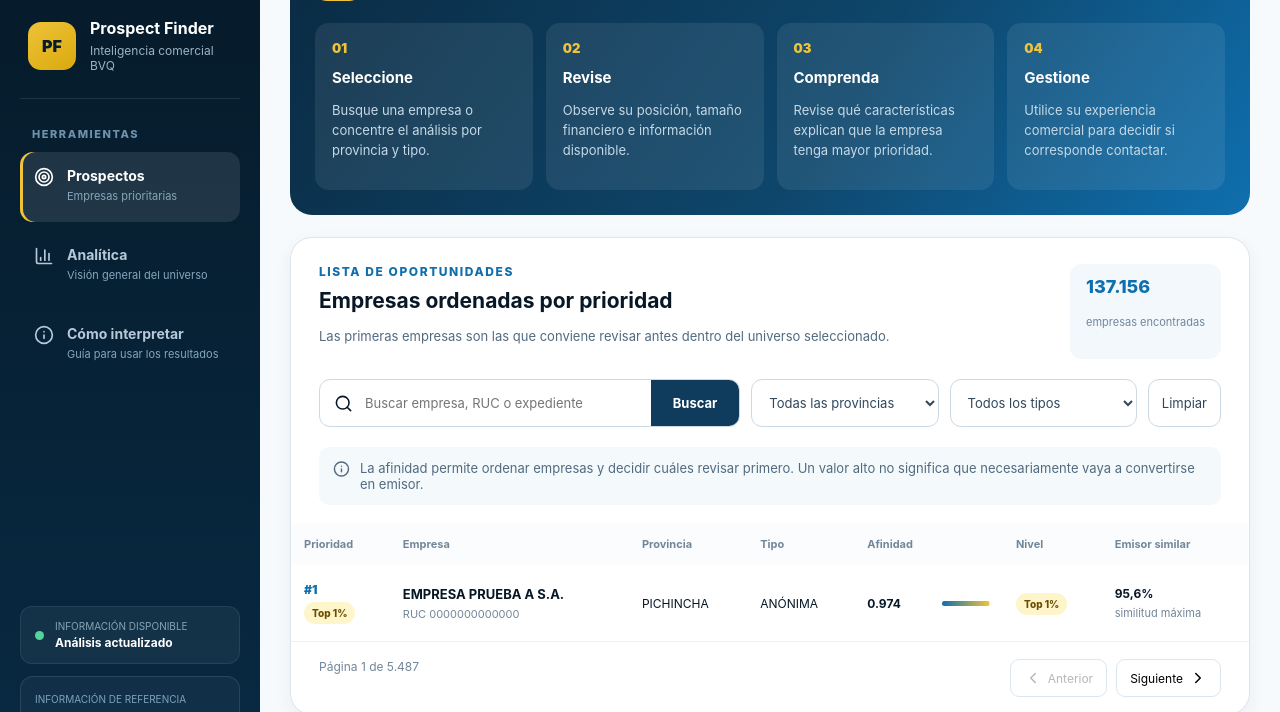
Test: Prospect Finder BVQ › consulta y presenta factores SHAP positivos y negativos
(page scrolled)
Click the text "EMPRESA PRUEBA A S.A.": (484, 594) [403,586,564,602]
(page scrolled)
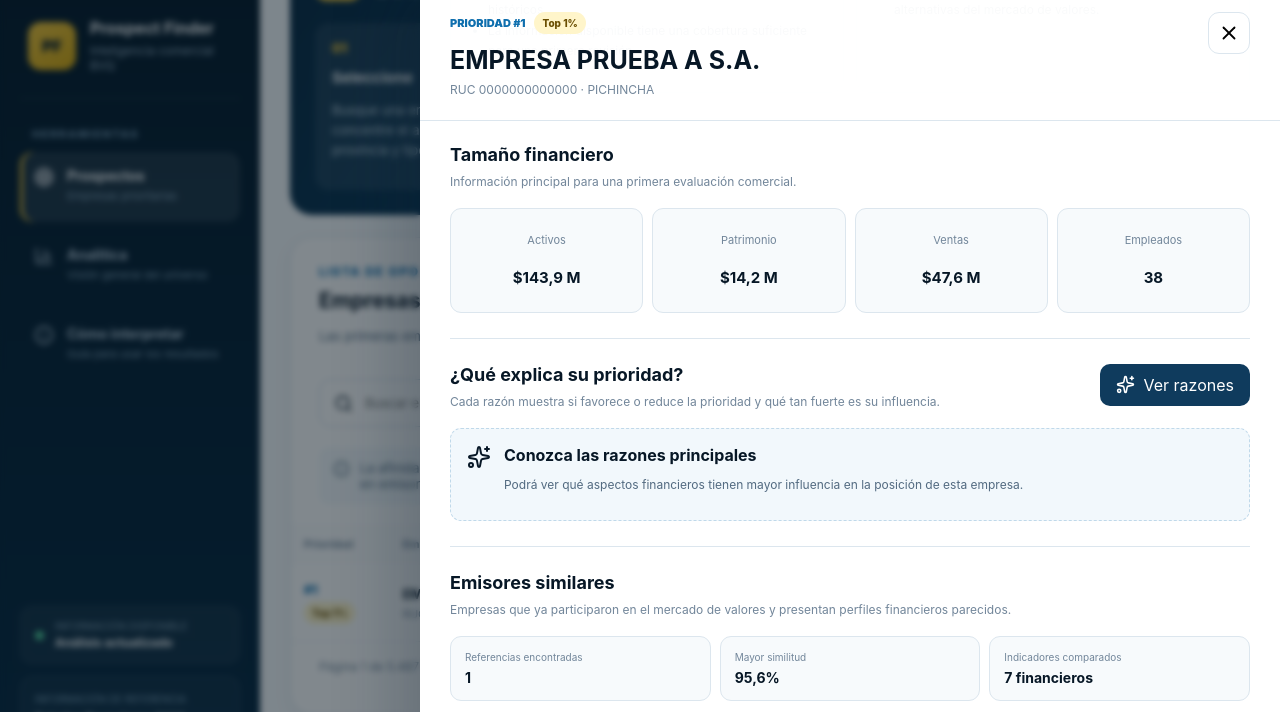
Click the button "Ver razones": (1175, 385) [1100,364,1250,406]
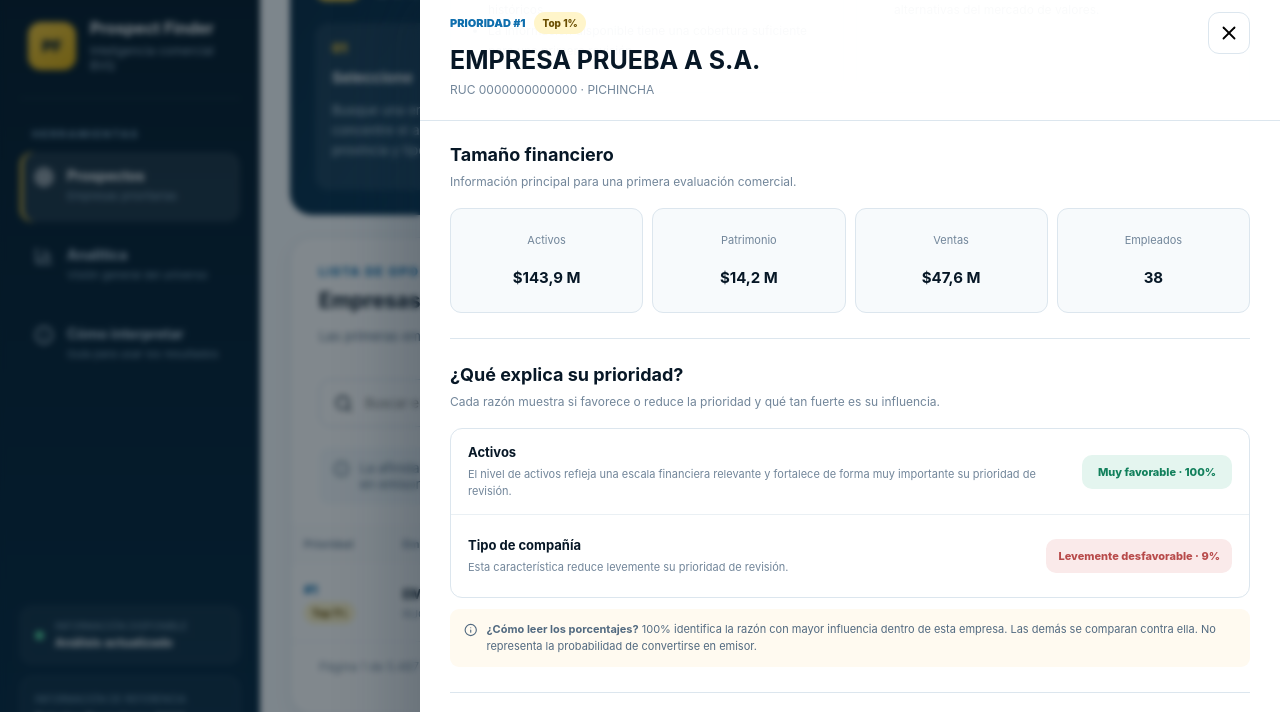
Expected: the text "Muy favorable · 100%" is shown, [1082,454,1232,488]
Expected: the text "Levemente desfavorable · 9%" is shown, [1046,539,1232,573]
